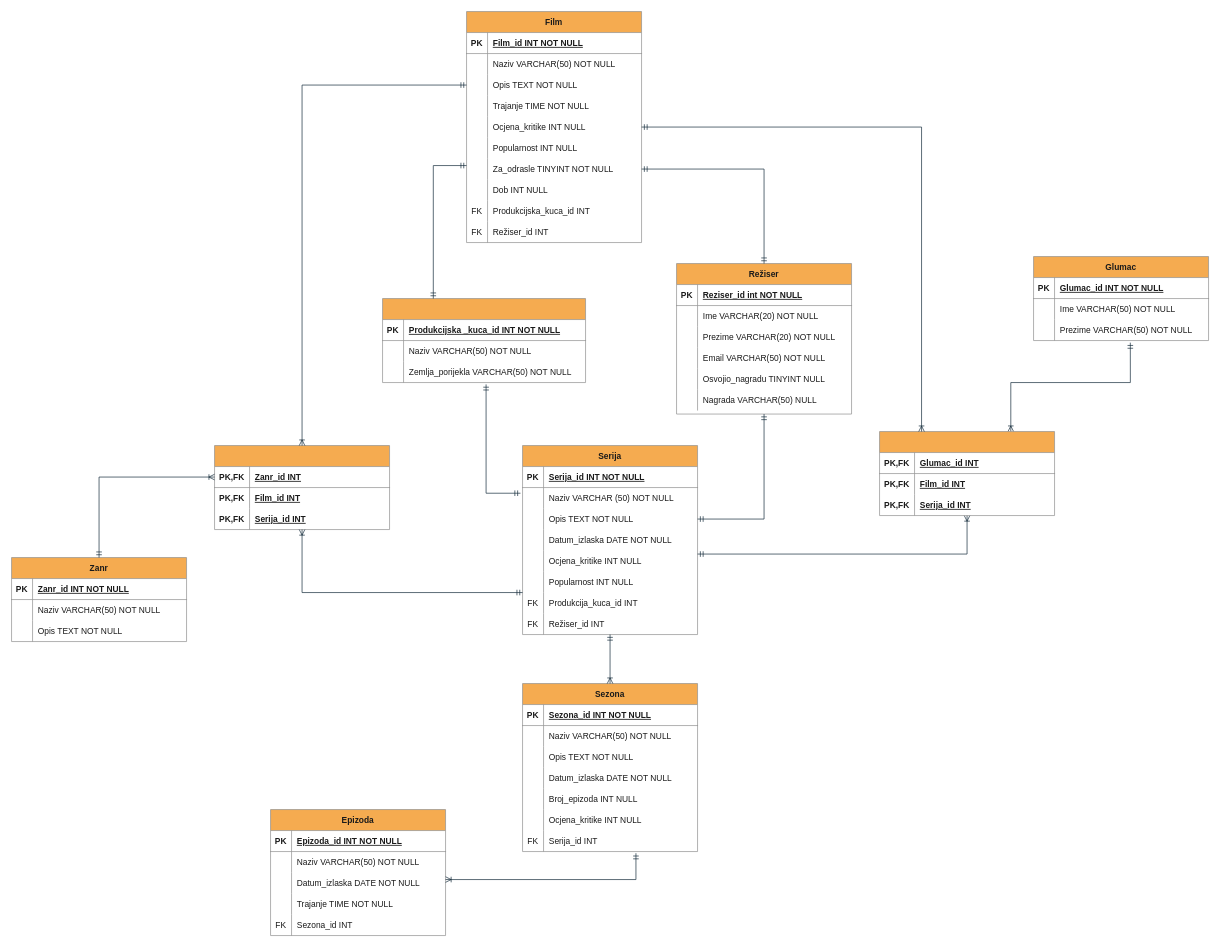
The diagram is 1220 pixels wide and 947 high, and some of its shapes have lost their labels. Each missing label, with the box of its shape:
Glumi: (879, 431, 1055, 516)
Pripada: (214, 445, 390, 530)
Produkcijska_kuća: (382, 298, 586, 383)
